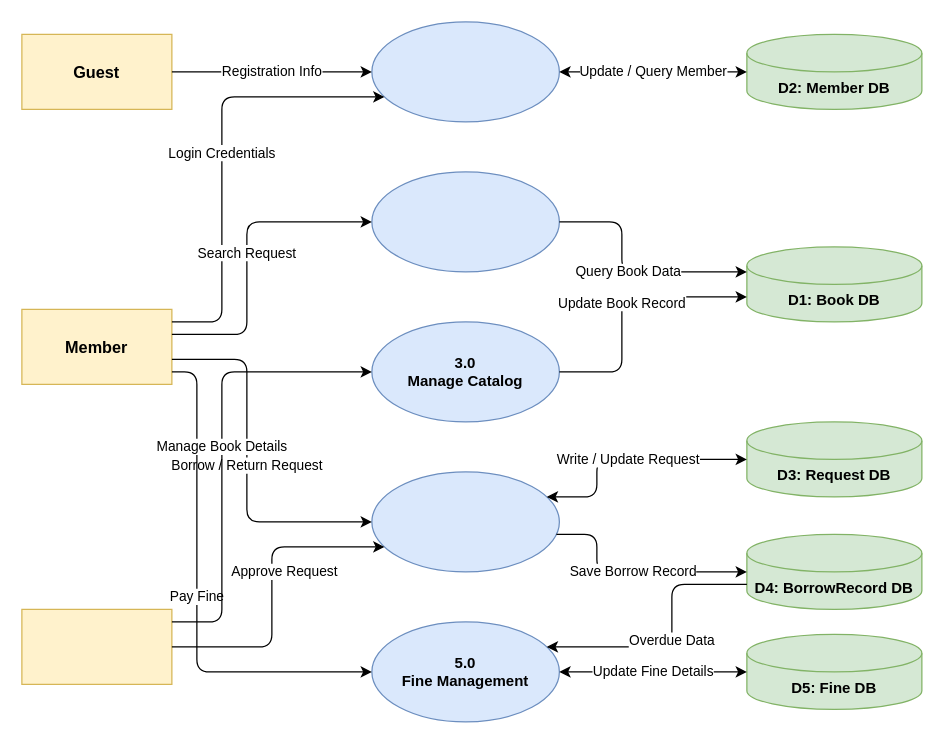
The diagram is 944 pixels wide and 744 high, and some of its shapes have lost their labels. Each missing label, with the centre of its shape:
"1.0 Account Management" goes at [465,71].
"2.0 Search Catalog" goes at [465,221].
"4.0 Process Request" goes at [465,521].
"Admin" goes at [96,646].
